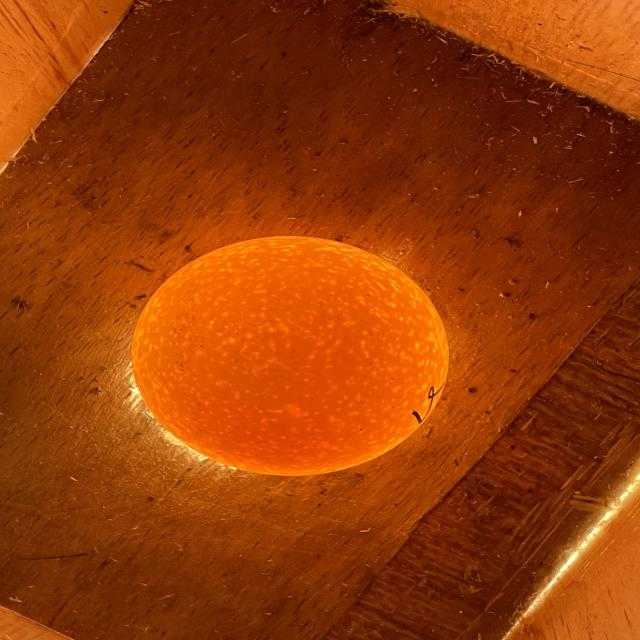infertile: (132, 236, 448, 475)
